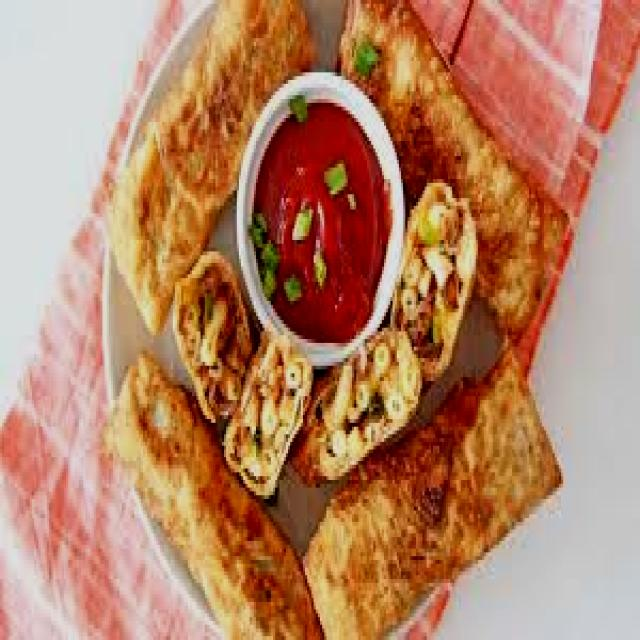inorganic: (242, 72, 410, 348)
organic: (112, 378, 367, 620), (416, 184, 566, 516), (109, 179, 239, 373)
